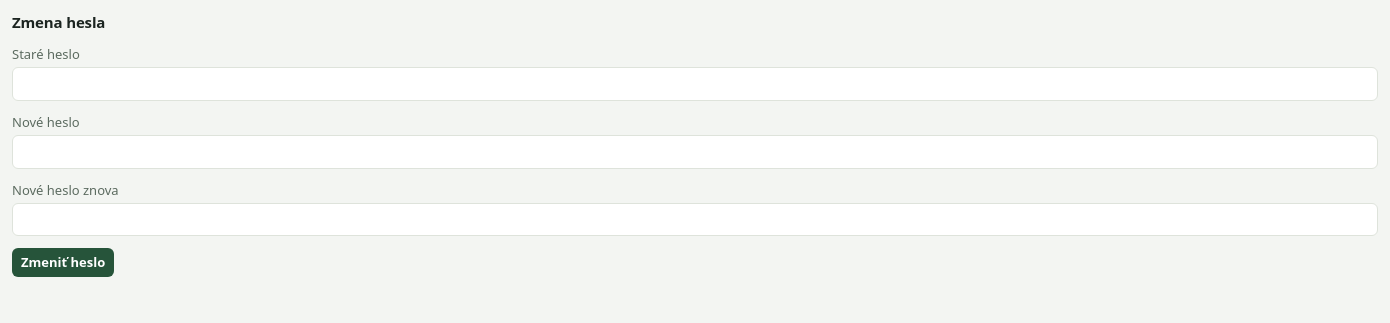
príliš krátke nové heslo ukáže chybu a nezavolá server
The image size is (1390, 323).
Type "stare-heslo" into the password field labelled "Staré heslo".
click(695, 84); type("stare-heslo")  # box [12,67,1378,101]
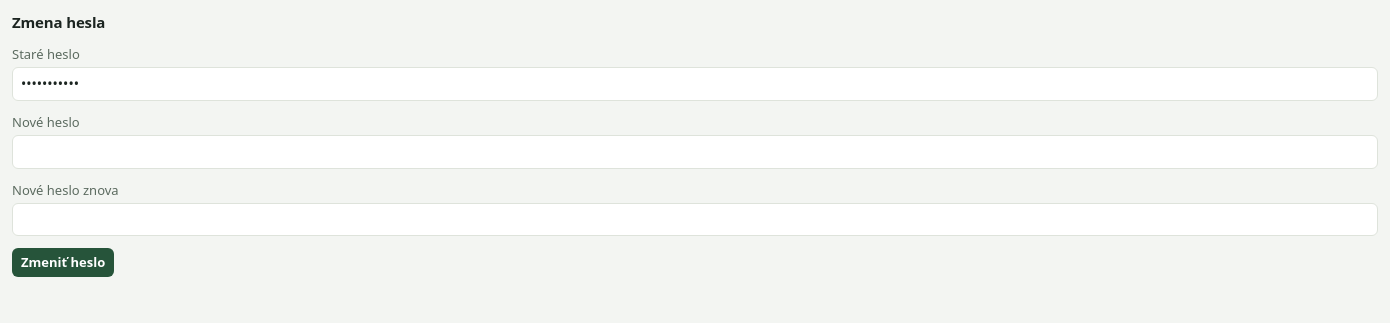
Type "krat" into the password field labelled "Nové heslo".
click(695, 152); type("krat")  # box [12,135,1378,169]
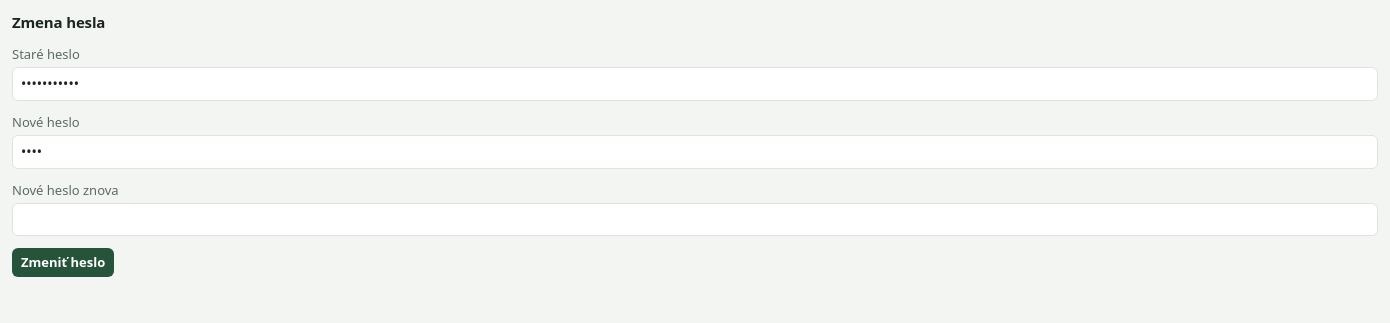
Type "krat" into the password field labelled "Nové heslo znova".
click(695, 220); type("krat")  # box [12,203,1378,236]
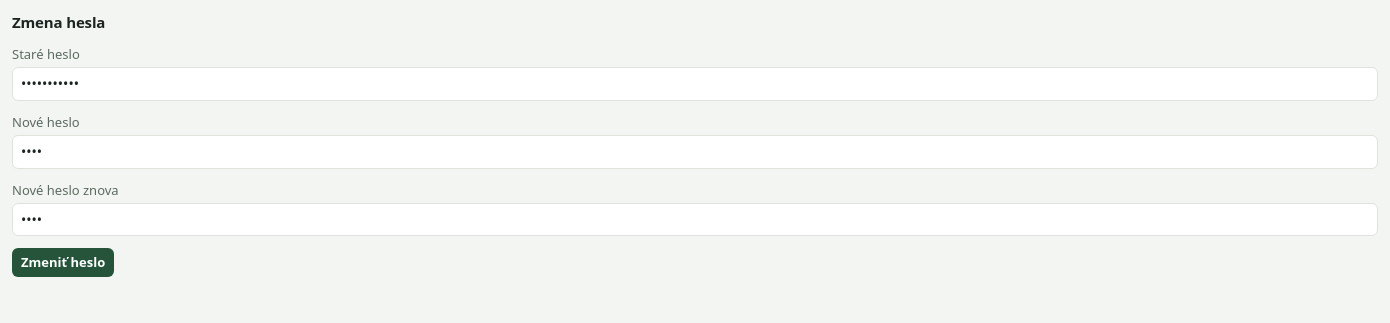
Click the button "Zmeniť heslo".
click(63, 262)  # box [12,248,114,276]
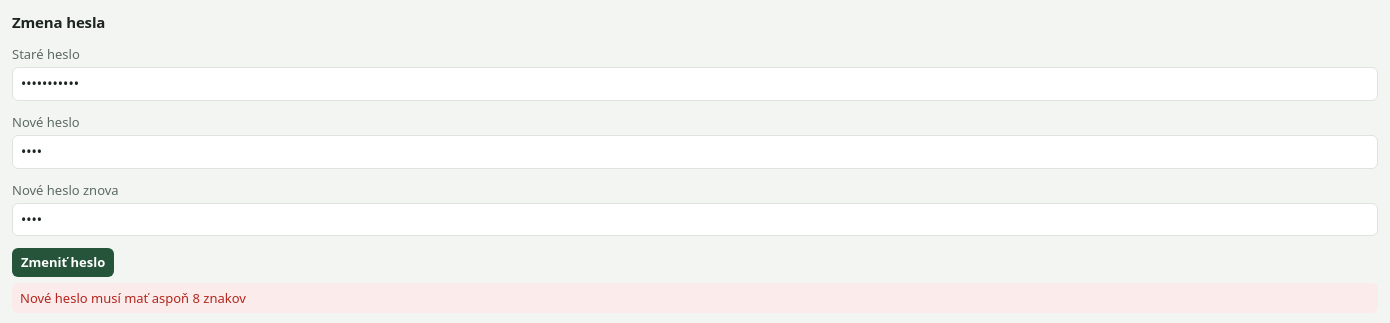
Result: the message reads "Nové heslo musí mať aspoň 8 znakov" at [20,288,246,306]
